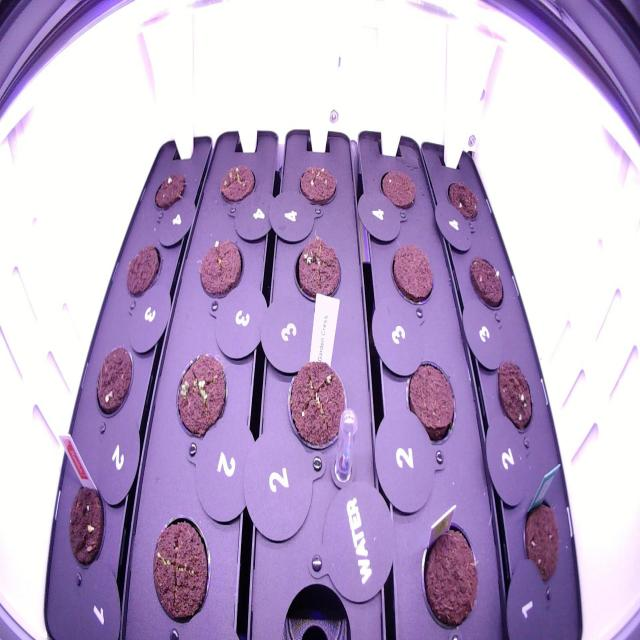germination: (169, 344, 232, 450), (283, 224, 351, 312), (194, 232, 247, 313), (292, 154, 344, 212), (216, 154, 261, 212)
pod: (411, 507, 485, 635), (142, 508, 218, 630), (283, 352, 355, 460), (401, 351, 461, 459), (516, 484, 565, 596), (63, 468, 110, 580), (489, 346, 537, 441), (384, 236, 436, 314), (91, 340, 137, 422), (463, 247, 510, 320), (123, 237, 163, 307), (375, 162, 420, 220), (442, 170, 483, 229), (151, 167, 190, 217)
